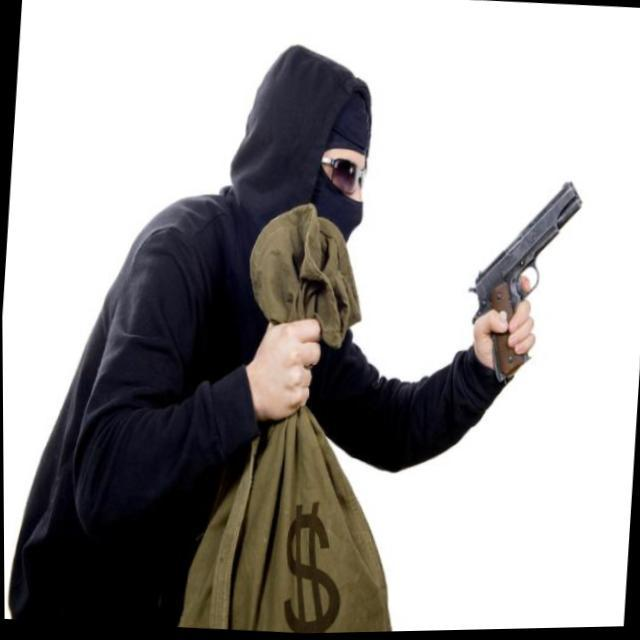weapon: (461, 174, 584, 391)
